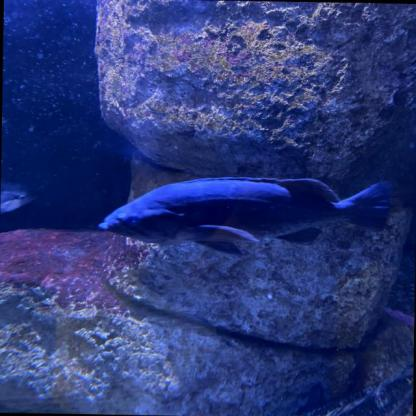fish: (99, 174, 392, 256), (0, 180, 36, 216)
